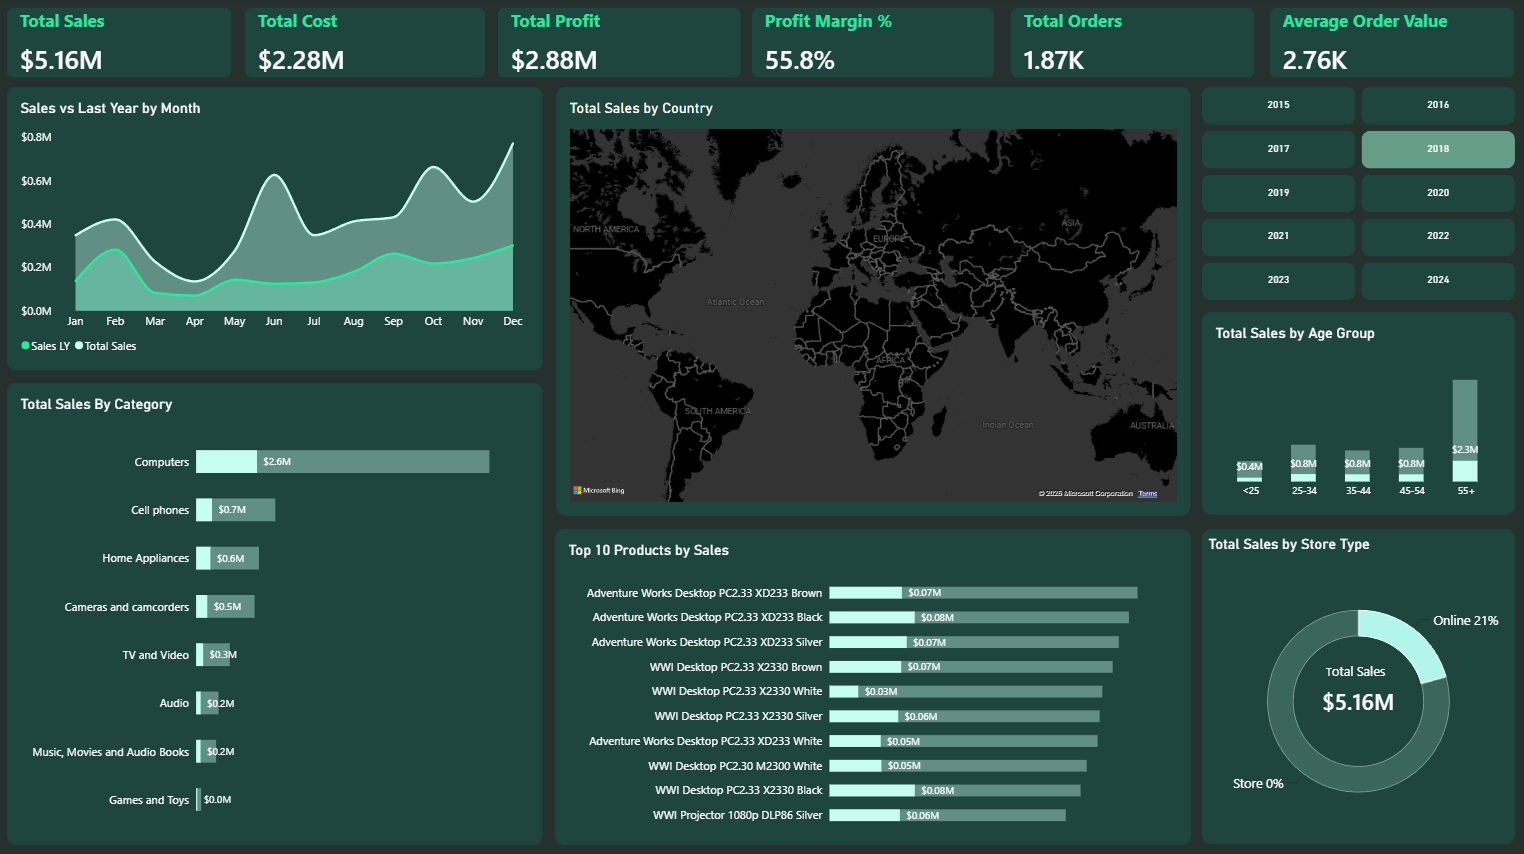

This screenshot's page, from the dashboard's own definition file:
{"tool":"powerbi","page":{"name":"Page 1","canvas":[1920,1080],"ordinal":0},"visuals":[{"type":"cardVisual","fields":{"Data":["Measures (2).Total Sales"]},"box":[14.6,11.9,281.8,87.3],"z":0},{"type":"cardVisual","fields":{"Data":["Measures (2).Total Profit"]},"box":[629.9,11.9,304.3,87.3],"z":1000},{"type":"cardVisual","fields":{"Data":["Measures (2).Total Cost"]},"box":[313.6,11.9,301.7,87.3],"z":2000},{"type":"cardVisual","fields":{"Data":["Measures (2).Profit Margin %"]},"box":[948.8,11.9,303,87.3],"z":3000},{"type":"cardVisual","fields":{"Data":["Measures (2).Total Orders"]},"box":[1272.9,11.9,305.7,87.3],"z":4000},{"type":"areaChart","title":"Sales vs Last Year by Month","fields":{"Category":["Date.MonthShort"],"Y":["Measures (2).Sales LY","Measures (2).Total Sales"]},"box":[15.1,111.9,670.8,355.4],"z":5000},{"type":"advancedSlicerVisual","fields":{"Values":["Date.Year"]},"box":[1512.3,111.5,392,268.3],"z":6000},{"type":"clusteredBarChart","title":"Total Sales By Category","fields":{"Category":["Product.Category"],"Y":["Measures (2).Total Sales"]},"box":[15.1,482.3,671.2,579],"z":7000},{"type":"map","title":"Total Sales by Country","fields":{"Category":["Store.Country","Customer.City"],"Size":["Measures (2).Total Sales"]},"box":[703,111.9,795.2,536.7],"z":8000},{"type":"clusteredBarChart","title":"Top 10 Products by Sales","fields":{"Category":["Product.ProductName"],"Y":["Measures (2).Total Sales"]},"box":[701.5,665.2,796.7,396.1],"z":9000},{"type":"donutChart","title":"Total Sales by Store Type","fields":{"Category":["Store.Store Type"],"Y":["Measures (2).Total Sales"]},"box":[1512.3,665.6,392,395.5],"z":10000},{"type":"cardVisual","fields":{"Data":["Measures (2).Average Order Value"]},"box":[1597.1,11.9,307,87.3],"z":11000},{"type":"clusteredColumnChart","title":"Total Sales by Age Group","fields":{"Category":["Customer.Age Group"],"Y":["Measures (2).Total Sales"]},"box":[1512.3,393.8,392,254.4],"z":12000},{"type":"textbox","box":[1668,832,113.4,37.8],"z":13000}]}

Visuals, with their boxes in screenshot pixels (x1, y1, x2, y2), scaled from the page's 1920x1080 canvas onto the 1524x854 screenshot:
cardVisual - Measures (2).Total Sales: x1=12, y1=9, x2=235, y2=78
cardVisual - Measures (2).Total Profit: x1=500, y1=9, x2=742, y2=78
cardVisual - Measures (2).Total Cost: x1=249, y1=9, x2=488, y2=78
cardVisual - Measures (2).Profit Margin %: x1=753, y1=9, x2=994, y2=78
cardVisual - Measures (2).Total Orders: x1=1010, y1=9, x2=1253, y2=78
"Sales vs Last Year by Month" areaChart: x1=12, y1=88, x2=544, y2=370
advancedSlicerVisual - Date.Year: x1=1200, y1=88, x2=1512, y2=300
"Total Sales By Category" clusteredBarChart: x1=12, y1=381, x2=545, y2=839
"Total Sales by Country" map: x1=558, y1=88, x2=1189, y2=513
"Top 10 Products by Sales" clusteredBarChart: x1=557, y1=526, x2=1189, y2=839
"Total Sales by Store Type" donutChart: x1=1200, y1=526, x2=1512, y2=839
cardVisual - Measures (2).Average Order Value: x1=1268, y1=9, x2=1511, y2=78
"Total Sales by Age Group" clusteredColumnChart: x1=1200, y1=311, x2=1512, y2=513
textbox: x1=1324, y1=658, x2=1414, y2=688
